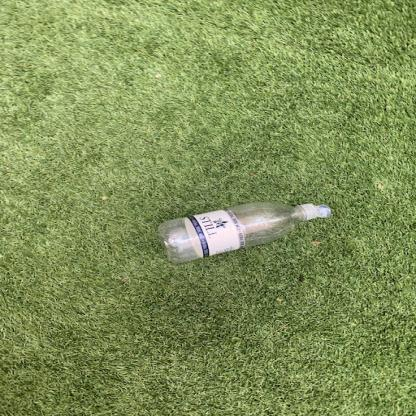trash: (156, 202, 329, 263)
